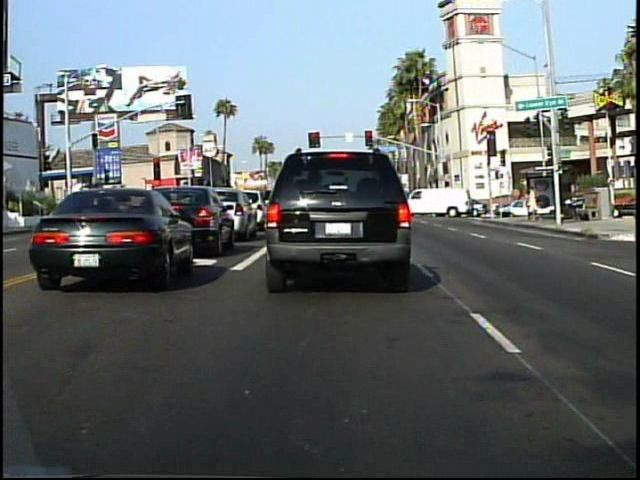person: (523, 183, 541, 225)
